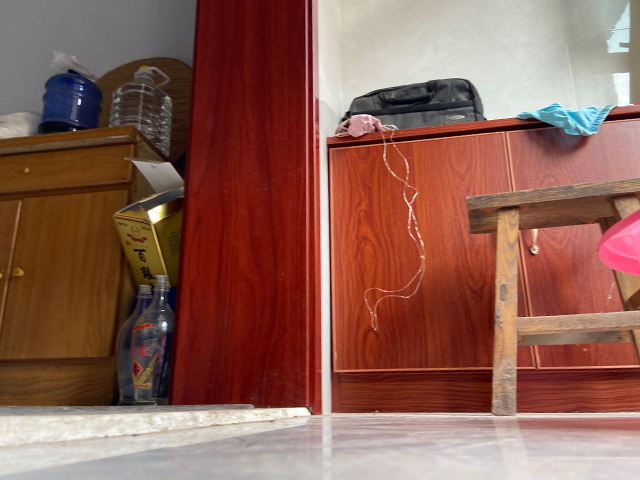cabinet: (325, 104, 640, 414), (1, 124, 167, 407)
stool: (465, 177, 640, 418)
